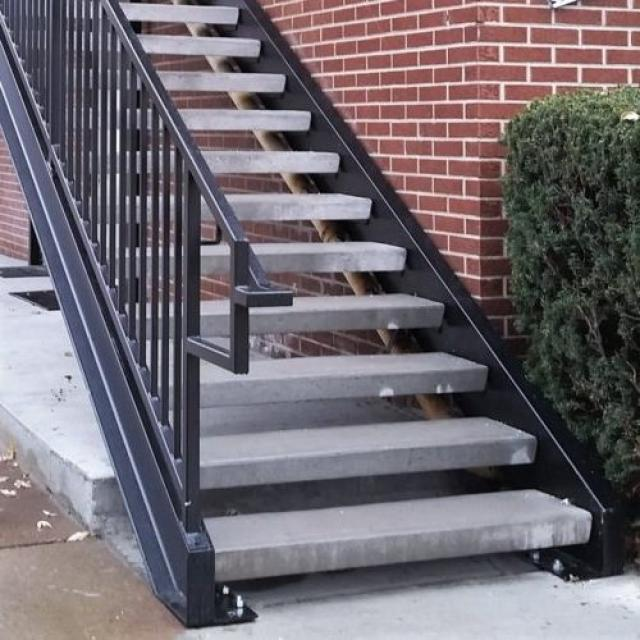stairs: (0, 0, 596, 599)
